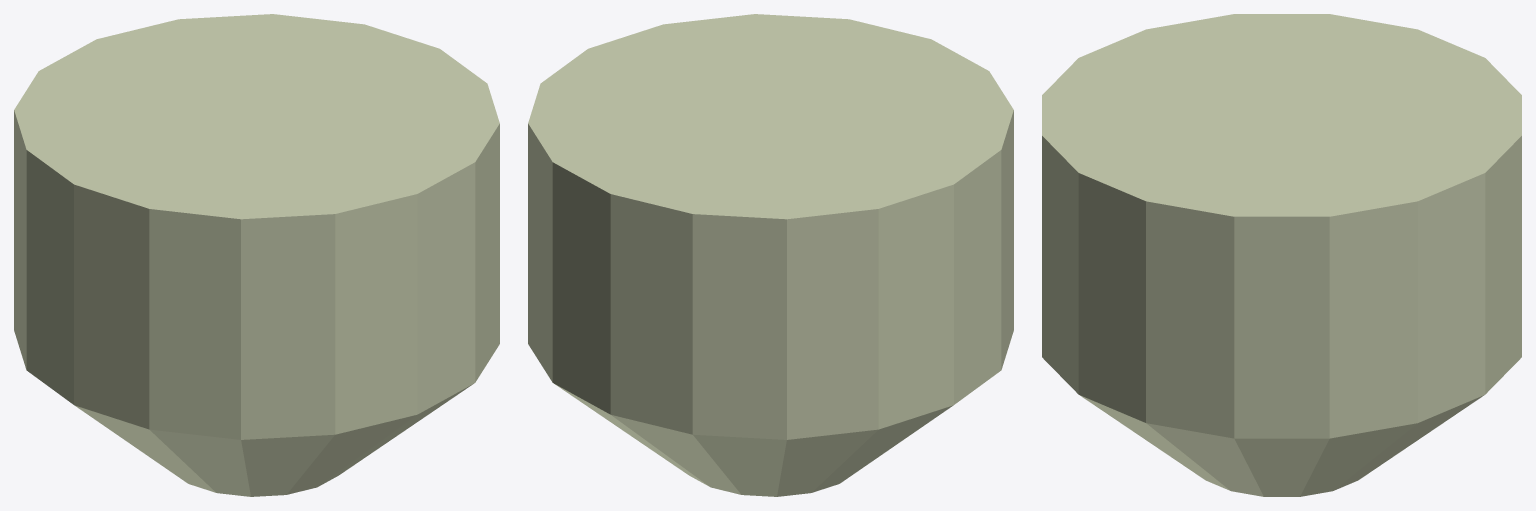
The model's file is Acamar_Lab_1_Collider.obj.
The picture shows the model from 3 angles, left to right: view 1: azimuth 30°, elevation 25°; view 2: azimuth 150°, elevation 25°; view 3: azimuth 270°, elevation 25°; orthographic projection.
Parts seen in each view (by area): view 1: Acamar_Lab_1_Collider; view 2: Acamar_Lab_1_Collider; view 3: Acamar_Lab_1_Collider.
Part boxes in pixels (x1=…): Acamar_Lab_1_Collider: x1=14, y1=14, x2=499, y2=496; Acamar_Lab_1_Collider: x1=528, y1=14, x2=1013, y2=496; Acamar_Lab_1_Collider: x1=1042, y1=14, x2=1521, y2=496.
Size of the model in its own units: 2.5 by 1.98 by 2.5.
